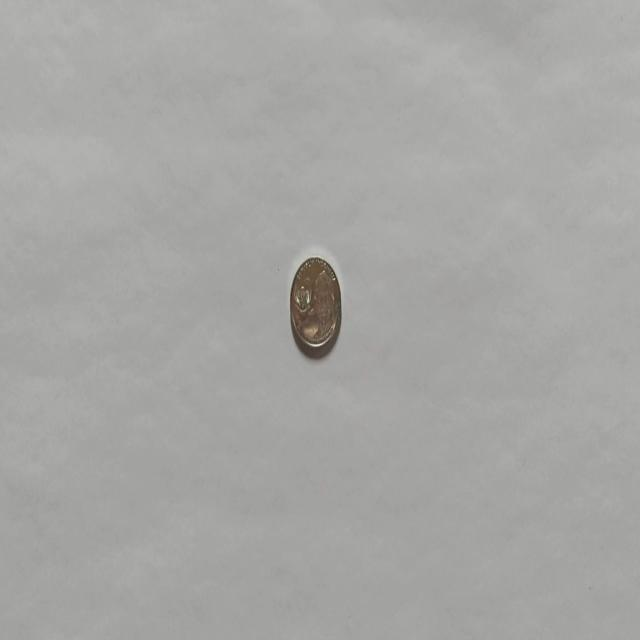dua ratus rupiah: (288, 254, 342, 352)
